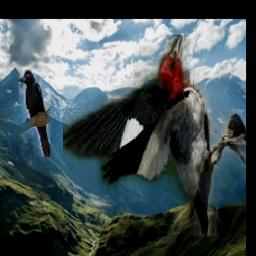Crow: (19, 69, 50, 157)
Woodpecker: (63, 36, 246, 237)
